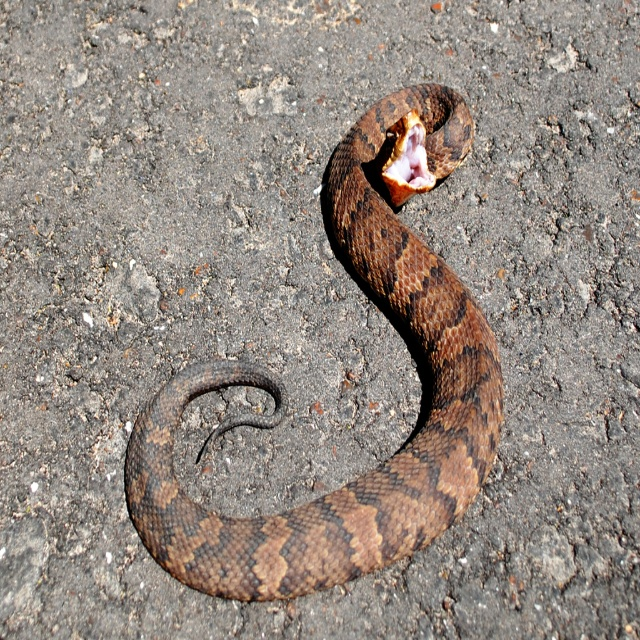Snake: (123, 79, 505, 603)
